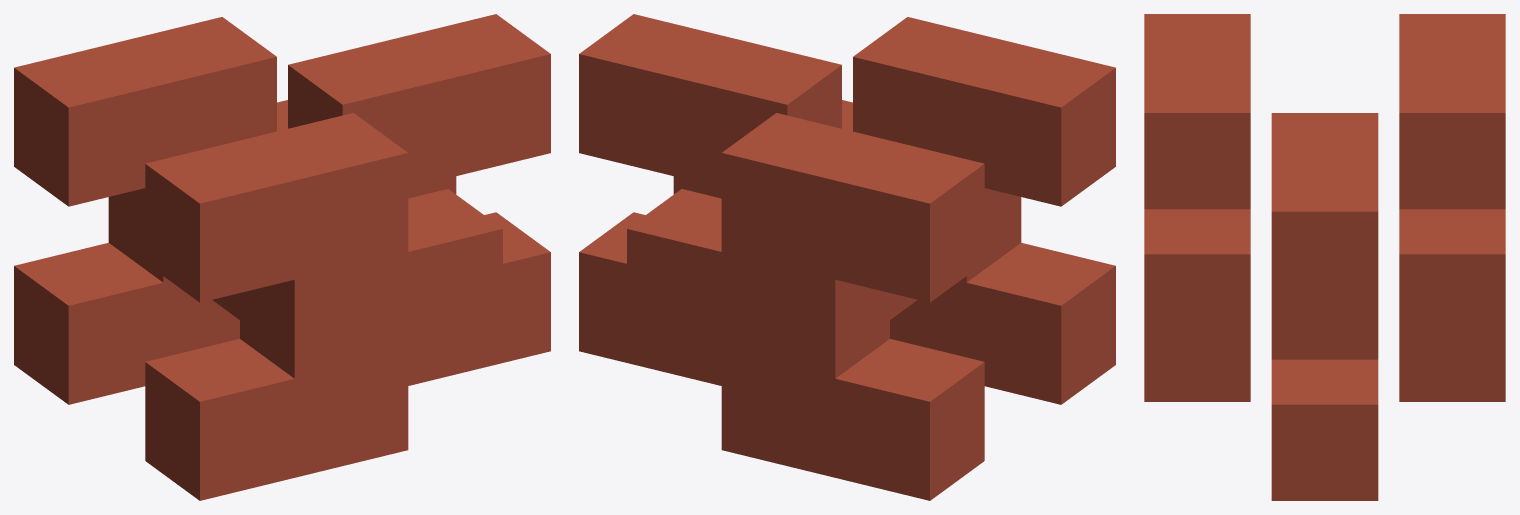
File: material_brick.glb
The picture shows the model from 3 angles, left to right: view 1: azimuth 30°, elevation 25°; view 2: azimuth 150°, elevation 25°; view 3: azimuth 270°, elevation 25°; orthographic projection. The views are drawn at different scales.
Size of the model in its own units: 0.44 by 0.3 by 0.34.
